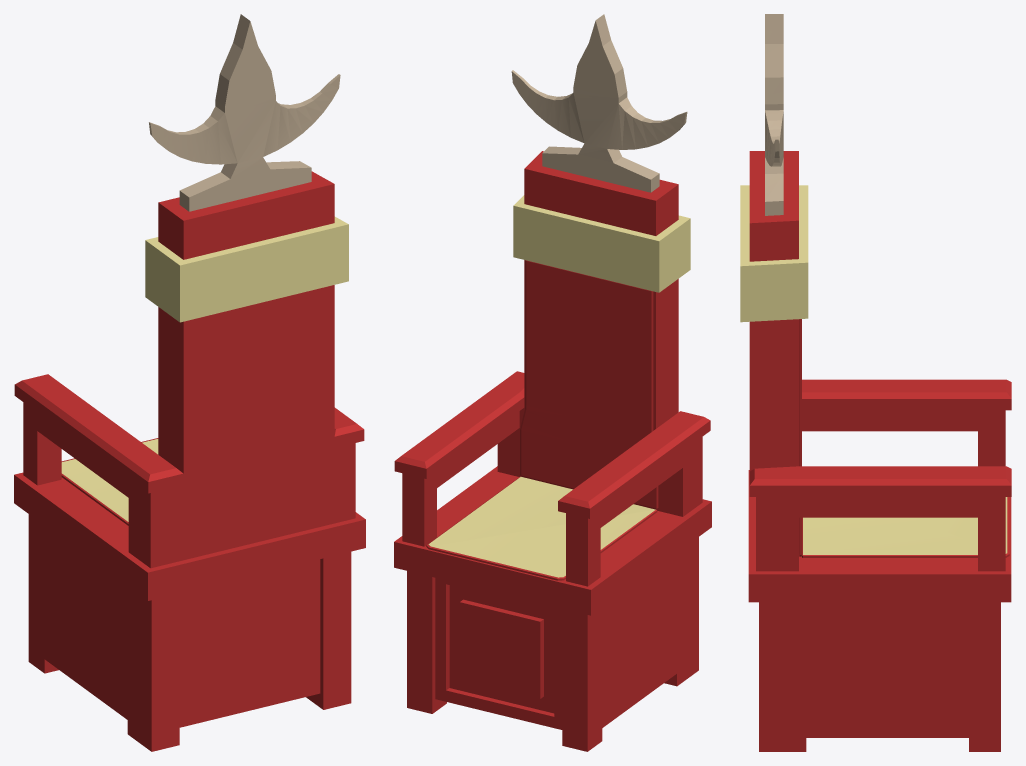
Rendered from Tron.fbx.
The picture shows the model from 3 angles, left to right: view 1: azimuth 30°, elevation 25°; view 2: azimuth 150°, elevation 25°; view 3: azimuth 270°, elevation 25°; orthographic projection. The views are drawn at different scales.
Parts seen in each view (by area): view 1: Base; view 2: Base; view 3: Base.
Boxes of the visible parts, <box> form: Base: <box>14,14,365,751</box>; Base: <box>394,14,711,751</box>; Base: <box>740,14,1011,751</box>.
Size of the model in its own units: 40 by 123 by 43.94.
